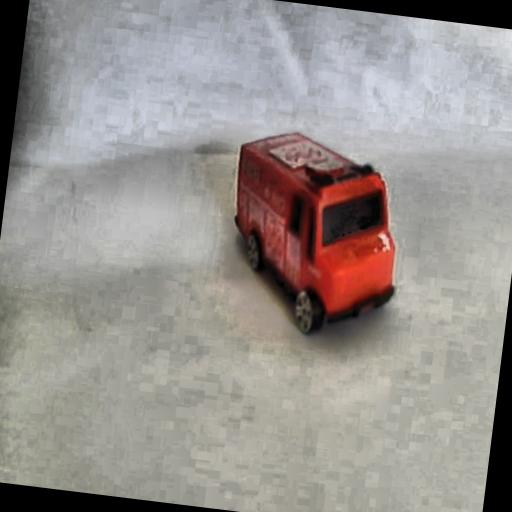fire_truck: (210, 114, 420, 351), (241, 156, 298, 232)
